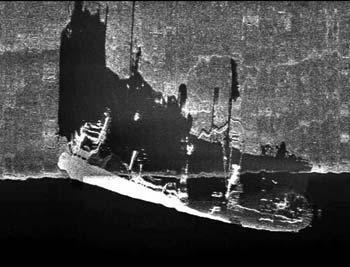ship: (55, 94, 315, 234)
